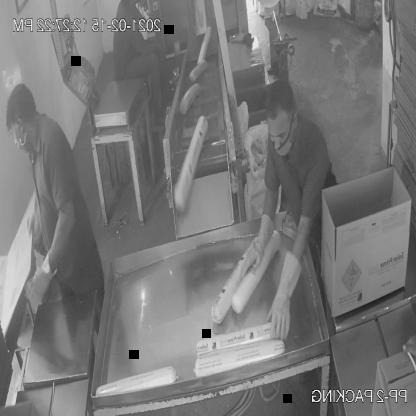glove: (265, 240, 304, 346), (18, 240, 64, 318), (237, 207, 277, 286)
no_glove: (128, 36, 167, 65)
